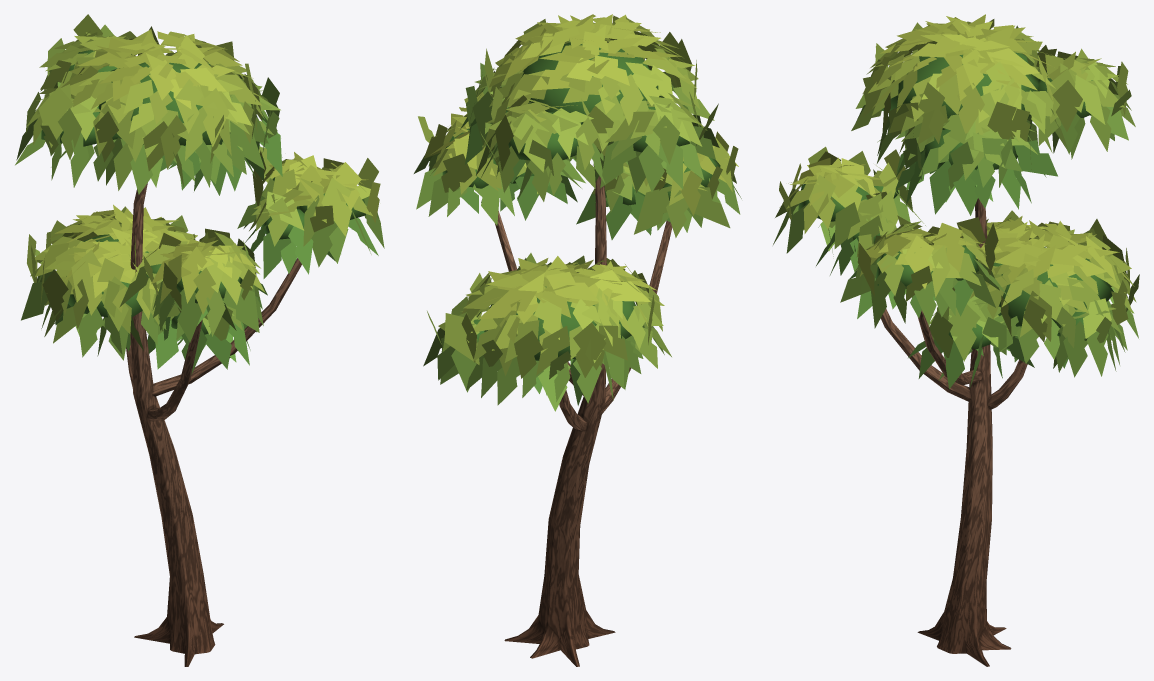
Rendered from tree_3.glb.
3 views of the same model, side by side, from view 1: azimuth 30°, elevation 25°; view 2: azimuth 150°, elevation 25°; view 3: azimuth 270°, elevation 25° (orthographic). The views are drawn at different scales.
Parts seen in each view (by area): view 1: tree_3; view 2: tree_3; view 3: tree_3.
Part boxes in pixels (x1=…): tree_3: x1=15, y1=14, x2=384, y2=666; tree_3: x1=414, y1=14, x2=741, y2=666; tree_3: x1=773, y1=14, x2=1139, y2=666.
Bounding box in the file's own units: 4.3 × 7.8 × 4.3.
Materials: 2 (2 with a texture image).
